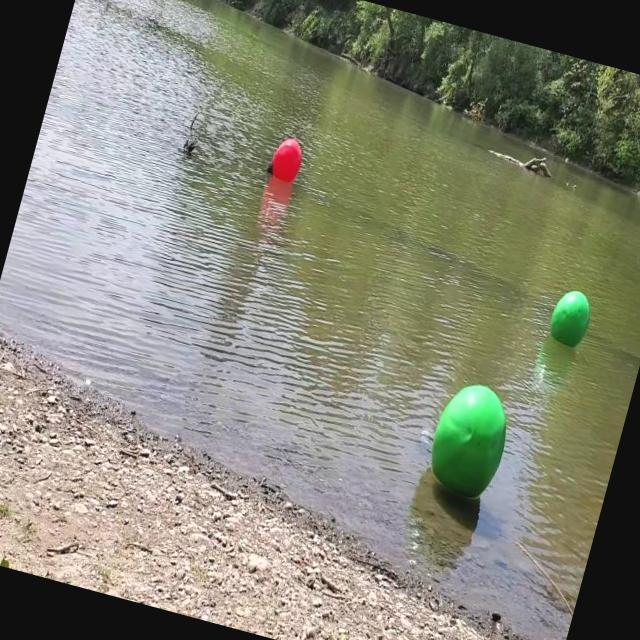buoy: (421, 376, 517, 503), (545, 285, 595, 350), (264, 132, 306, 183)
